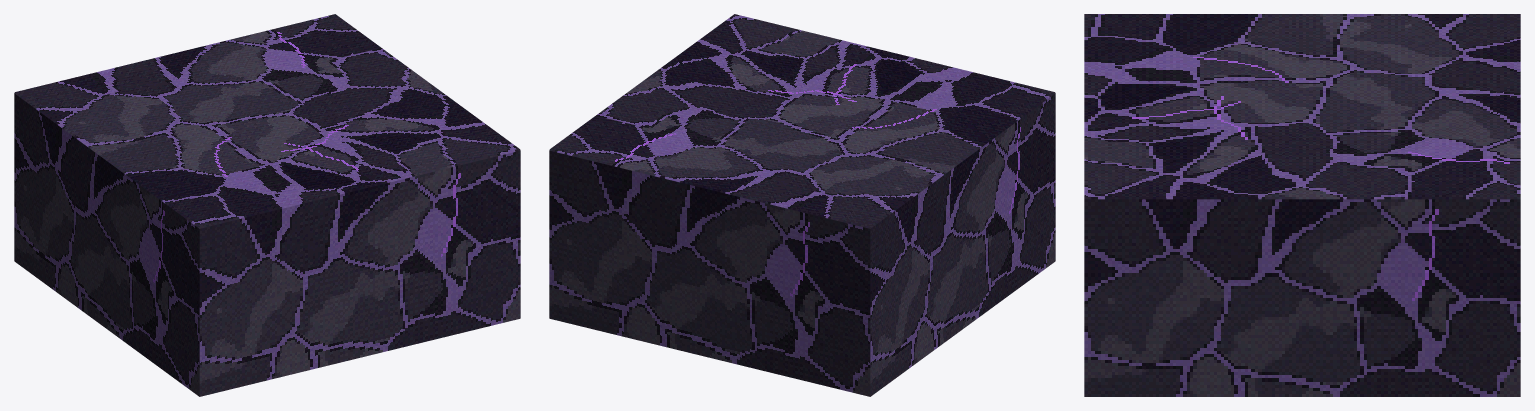
File: bloco_caverna_obsidiana.glb
3 views of the same model, side by side, from view 1: azimuth 30°, elevation 25°; view 2: azimuth 150°, elevation 25°; view 3: azimuth 270°, elevation 25° (orthographic). The views are drawn at different scales.
Parts seen in each view (by area): view 1: bloco_caverna_obsidiana; view 2: bloco_caverna_obsidiana; view 3: bloco_caverna_obsidiana.
Boxes of the visible parts, box(x1,y1,x2,y2) form: bloco_caverna_obsidiana: box(14, 14, 520, 396); bloco_caverna_obsidiana: box(549, 14, 1055, 396); bloco_caverna_obsidiana: box(1084, 14, 1520, 396).
Size of the model in its own units: 2 by 1.01 by 2.
Materials: 1 (1 with a texture image).
